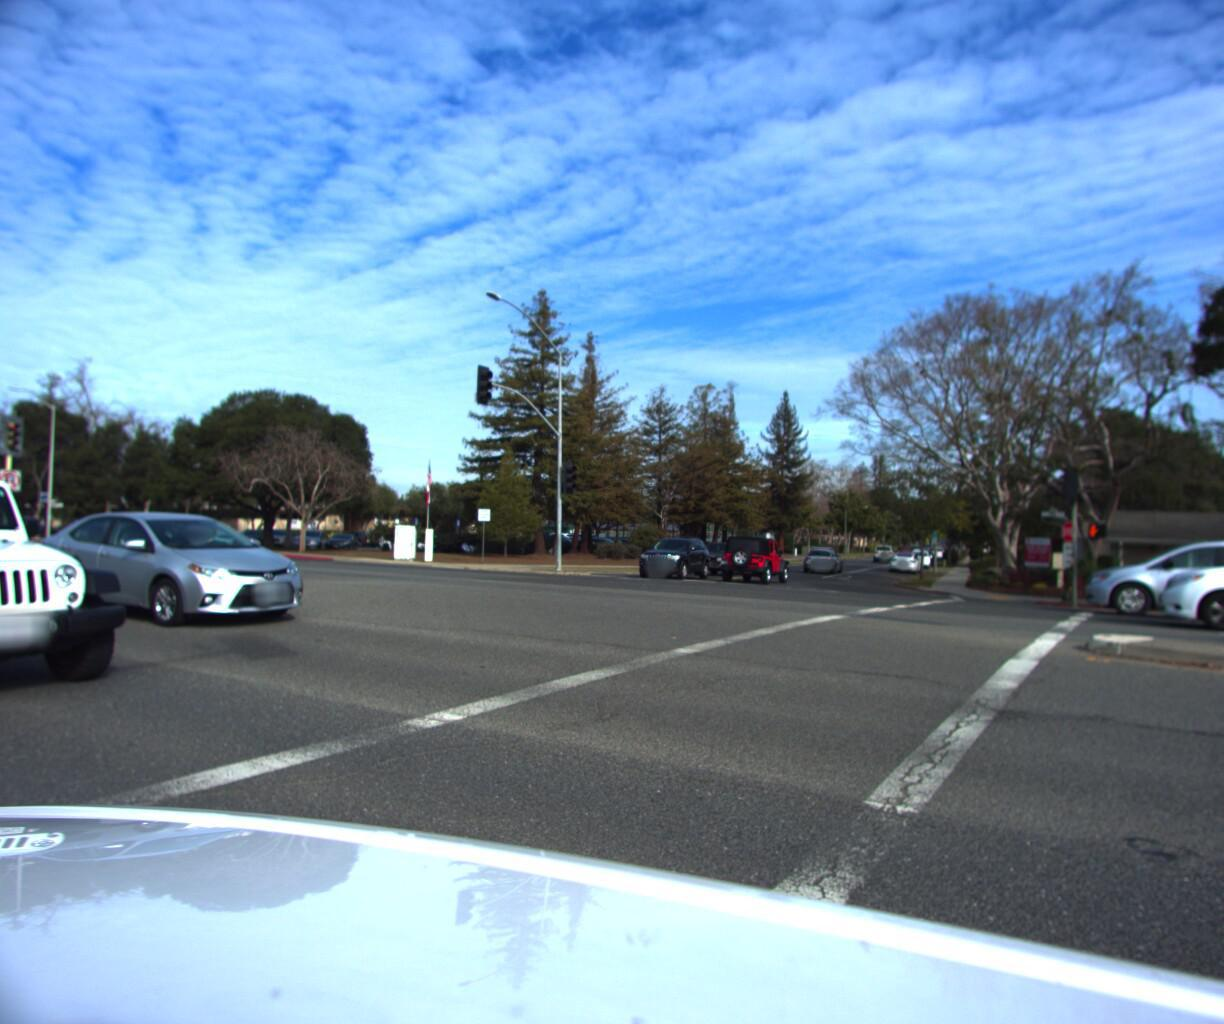car: (0, 445, 163, 726), (22, 507, 336, 634), (1070, 530, 1224, 629), (1149, 520, 1224, 646), (629, 534, 718, 585), (718, 534, 790, 583), (686, 540, 752, 579), (798, 544, 839, 573), (881, 548, 923, 576), (867, 542, 894, 563)
